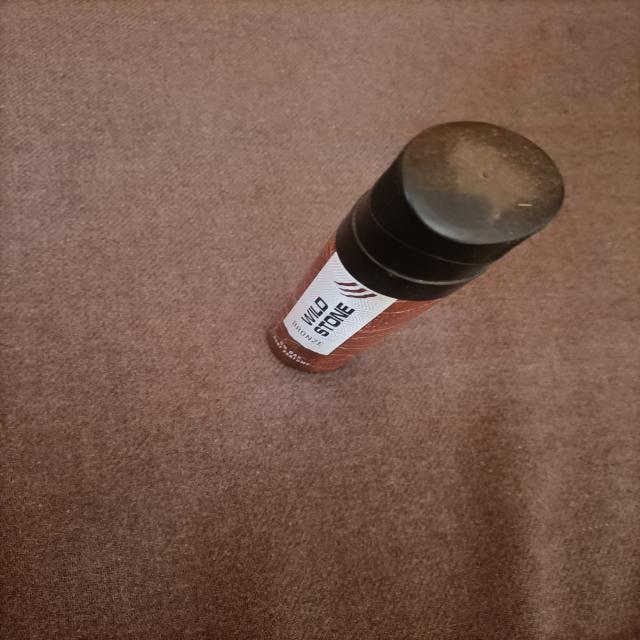spray: (167, 90, 597, 458)
